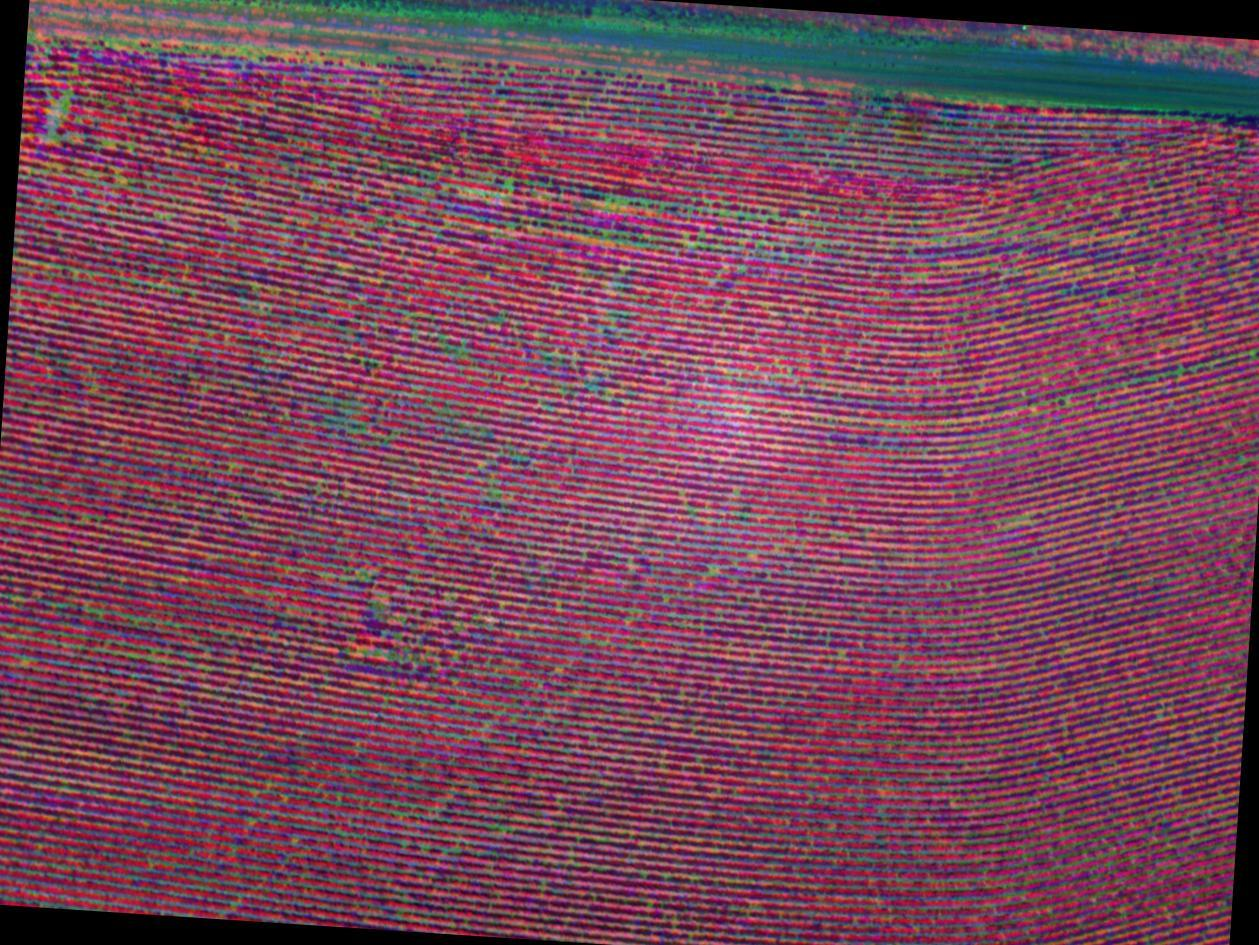dc: (578, 181, 772, 253), (23, 67, 92, 164), (979, 479, 1059, 559)
